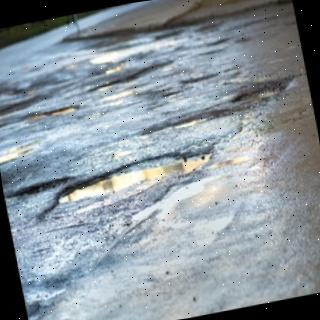pothole: (43, 149, 218, 218)
